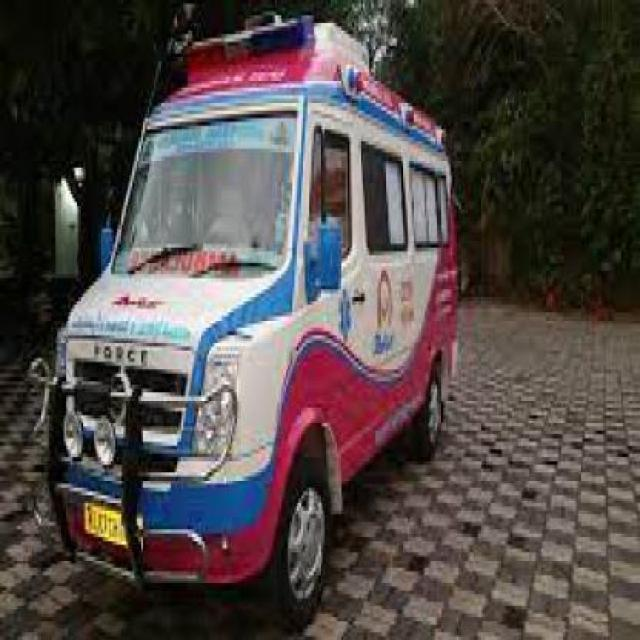Ambulance: (31, 12, 464, 632), (0, 293, 638, 638)
